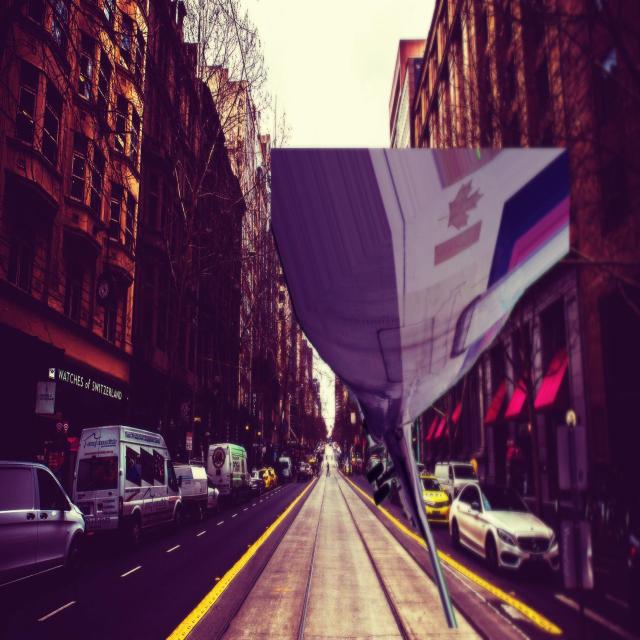airplane: (269, 144, 571, 634)
